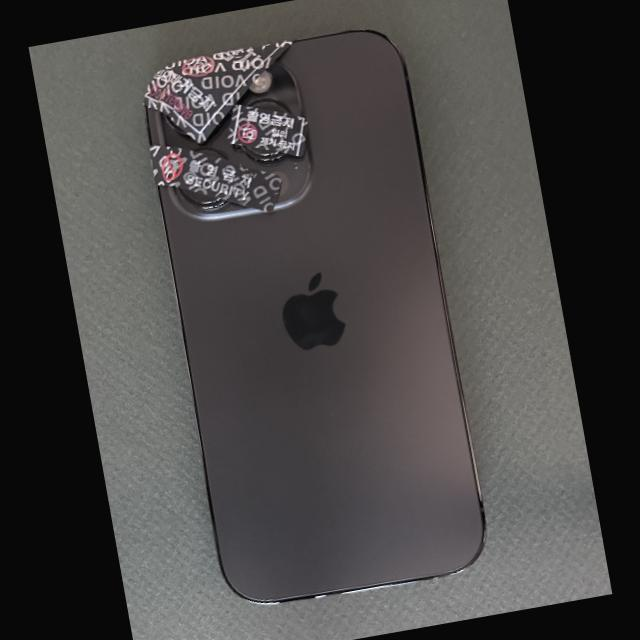lens: (186, 190, 222, 203), (256, 103, 287, 112)
phone: (145, 29, 489, 601)
sticker: (145, 39, 294, 142), (148, 145, 283, 212), (228, 103, 308, 157)
